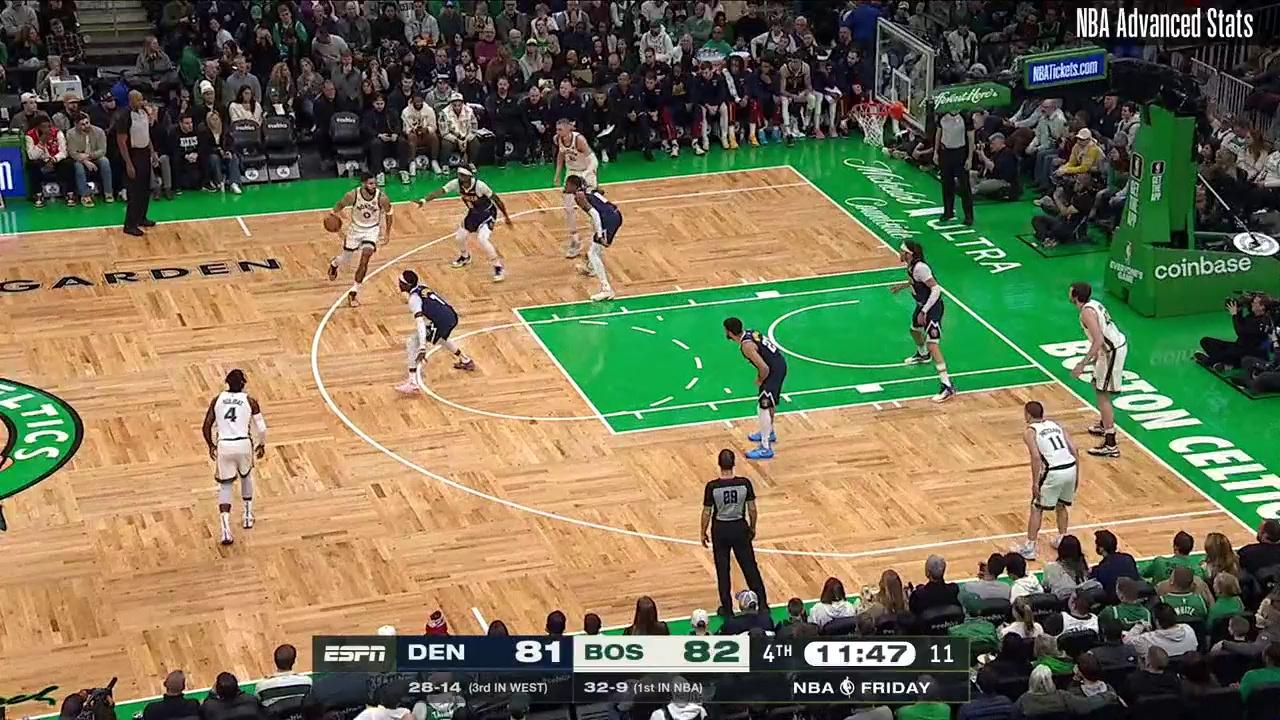3_dx: (1217, 503, 1231, 516)
3_sx: (804, 178, 815, 189)
b_sx: (782, 159, 796, 174)
free_adx: (607, 426, 621, 440)
free_asx: (507, 303, 522, 317)
free_bdx: (1049, 373, 1065, 388)
mid_dx: (468, 602, 479, 613)
mid_sx: (243, 230, 255, 240)
referee: (696, 446, 776, 615), (112, 89, 160, 240), (932, 102, 980, 230)
team: (203, 368, 266, 545), (1070, 281, 1131, 461), (324, 171, 396, 309), (1020, 400, 1079, 552), (552, 118, 601, 260)
team1: (416, 163, 517, 283), (391, 267, 478, 393), (893, 237, 958, 401), (720, 313, 788, 457), (563, 173, 625, 306)
timer: (808, 636, 913, 670)
